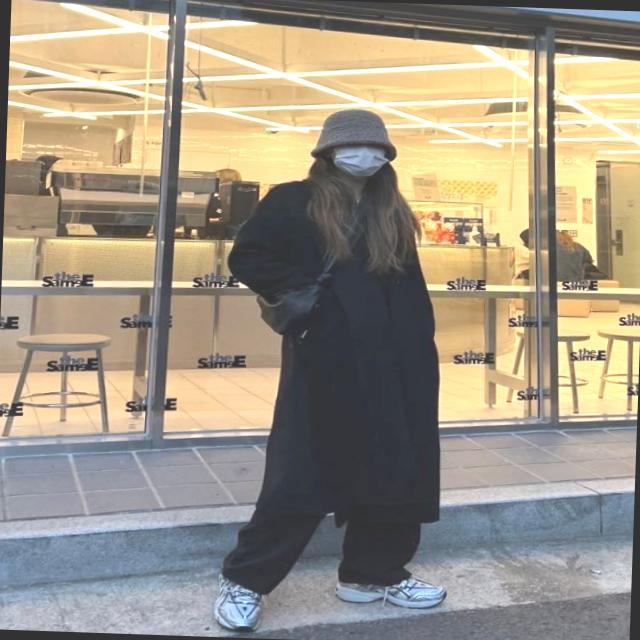coat: (216, 169, 454, 531)
slacks: (219, 502, 430, 600)
